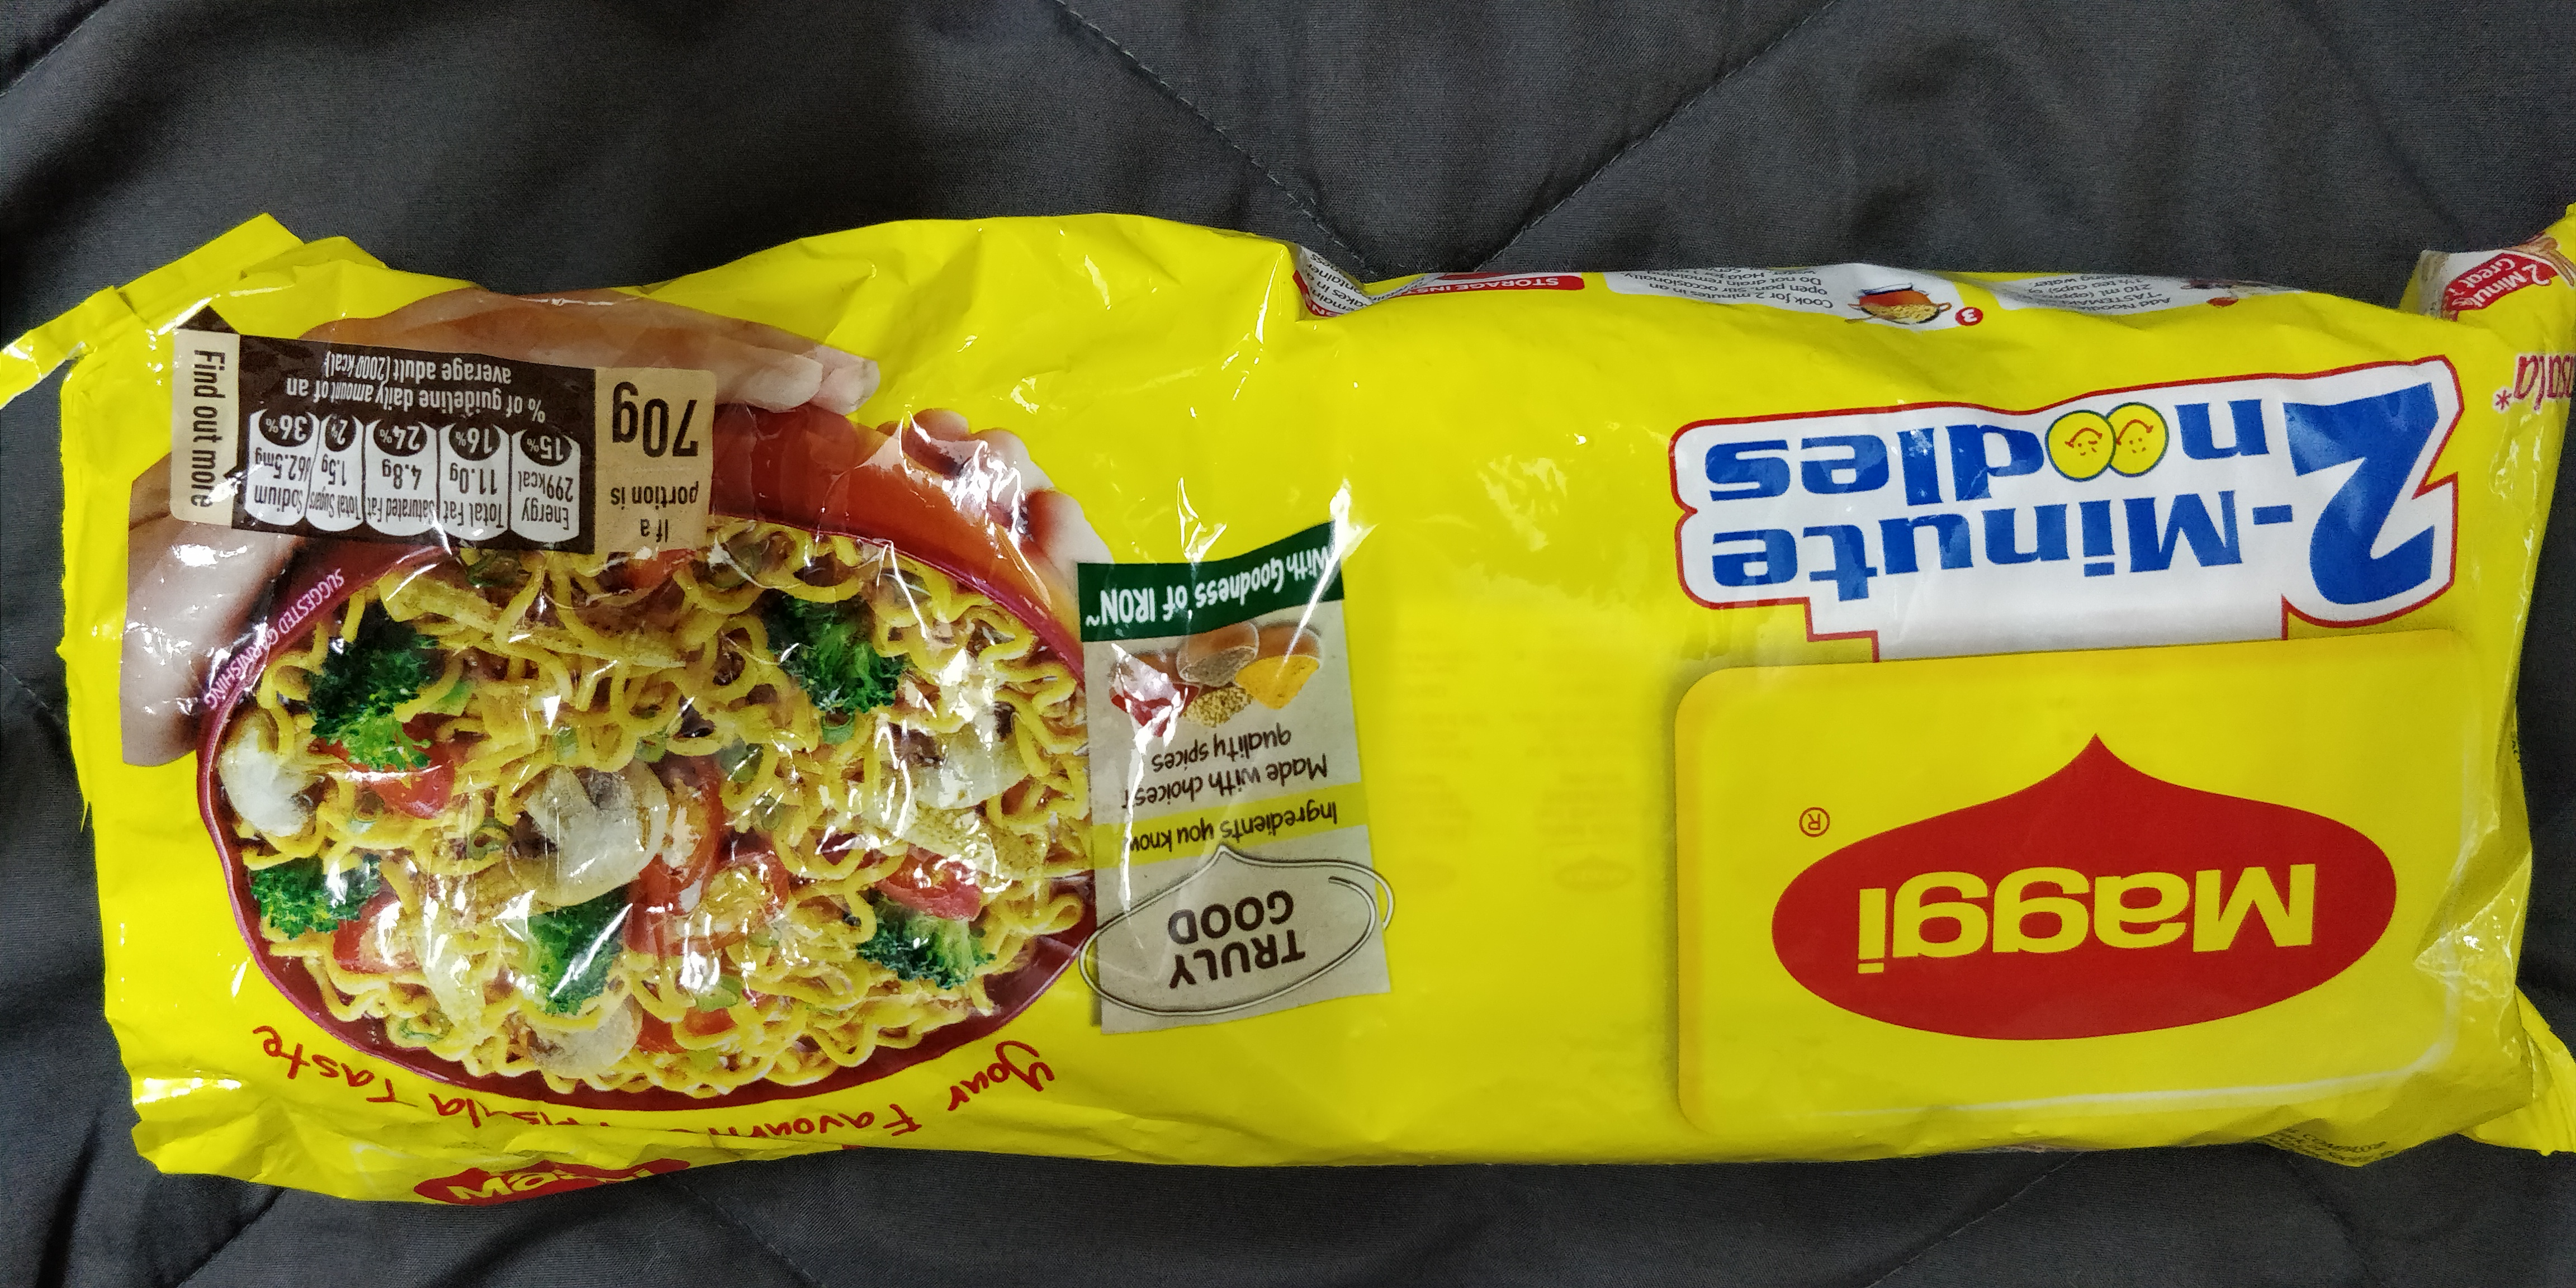maggie: (86, 273, 2576, 1200)
